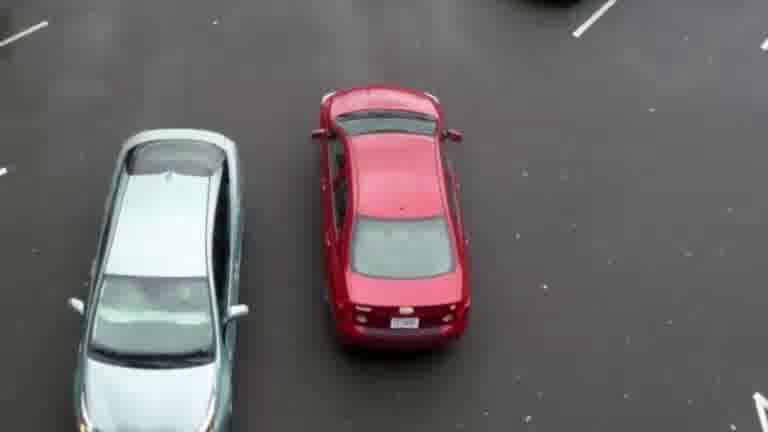car: (301, 74, 526, 393), (67, 98, 254, 430)
